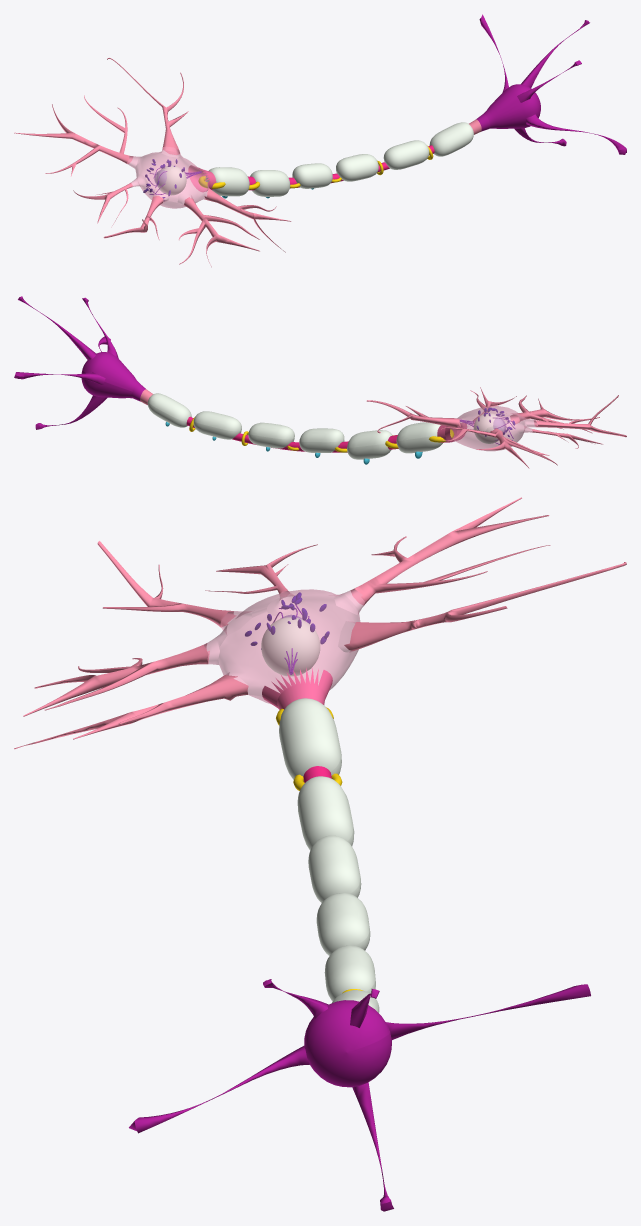
File: neuron.glb
3 views of the same model, one above another, from view 1: azimuth 30°, elevation 25°; view 2: azimuth 150°, elevation 25°; view 3: azimuth 270°, elevation 25° (orthographic). The views are drawn at different scales.
Visible parts, largest first — view 1: cz-myelin, cz-dendrites, cz-terminals, cz-body, cz-node, cz-hillock; view 2: cz-myelin, cz-terminals, cz-dendrites, cz-body, cz-axon, cz-node, cz-hillock; view 3: cz-myelin, cz-dendrites, cz-body, cz-terminals, cz-hillock.
Part boxes in pixels (x1=…): cz-myelin: x1=156, y1=122, x2=473, y2=196; cz-dendrites: x1=14, y1=58, x2=481, y2=267; cz-terminals: x1=476, y1=14, x2=626, y2=154; cz-body: x1=127, y1=147, x2=209, y2=208; cz-node: x1=198, y1=145, x2=433, y2=189; cz-hillock: x1=188, y1=165, x2=216, y2=192; cz-myelin: x1=147, y1=393, x2=504, y2=459; cz-terminals: x1=14, y1=296, x2=145, y2=429; cz-dendrites: x1=140, y1=387, x2=626, y2=468; cz-body: x1=450, y1=406, x2=537, y2=451; cz-axon: x1=186, y1=416, x2=398, y2=452; cz-node: x1=189, y1=417, x2=454, y2=452; cz-hillock: x1=437, y1=422, x2=467, y2=442; cz-myelin: x1=261, y1=617, x2=379, y2=1012; cz-dendrites: x1=14, y1=497, x2=626, y2=749; cz-body: x1=204, y1=589, x2=364, y2=703; cz-terminals: x1=129, y1=979, x2=590, y2=1211; cz-hillock: x1=262, y1=668, x2=332, y2=709.
Size of the model in its own units: 62.9 by 15.5 by 31.55.
